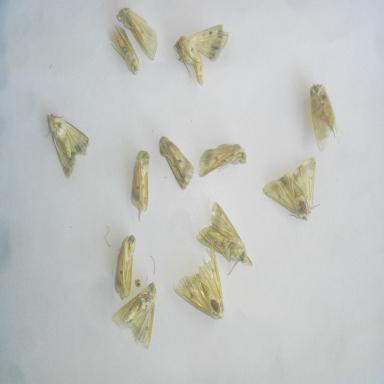abw: (192, 196, 257, 273), (260, 152, 324, 228), (170, 244, 228, 323), (171, 20, 231, 89), (109, 274, 159, 352), (41, 110, 92, 181), (306, 77, 344, 160), (154, 131, 197, 196), (114, 6, 163, 63), (191, 138, 251, 183), (106, 229, 140, 308), (104, 20, 143, 81), (127, 148, 153, 226)
